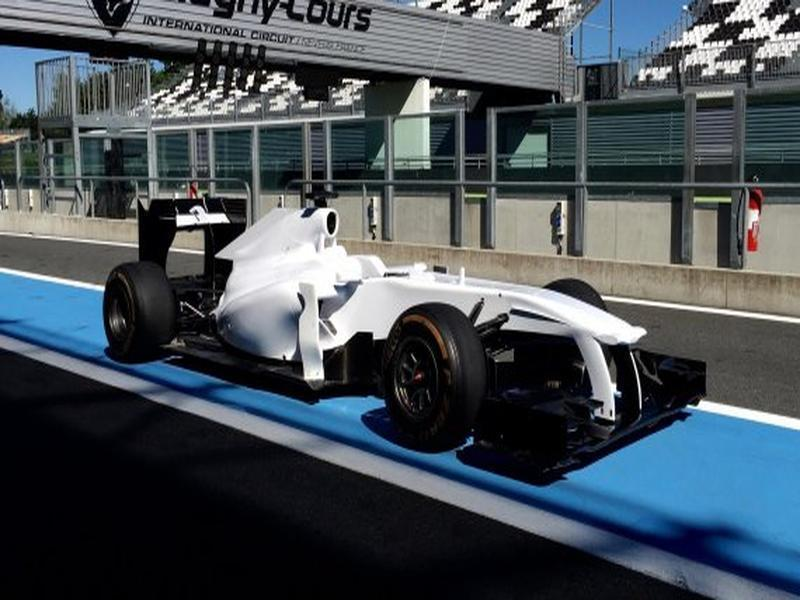f1: (91, 119, 755, 482)
